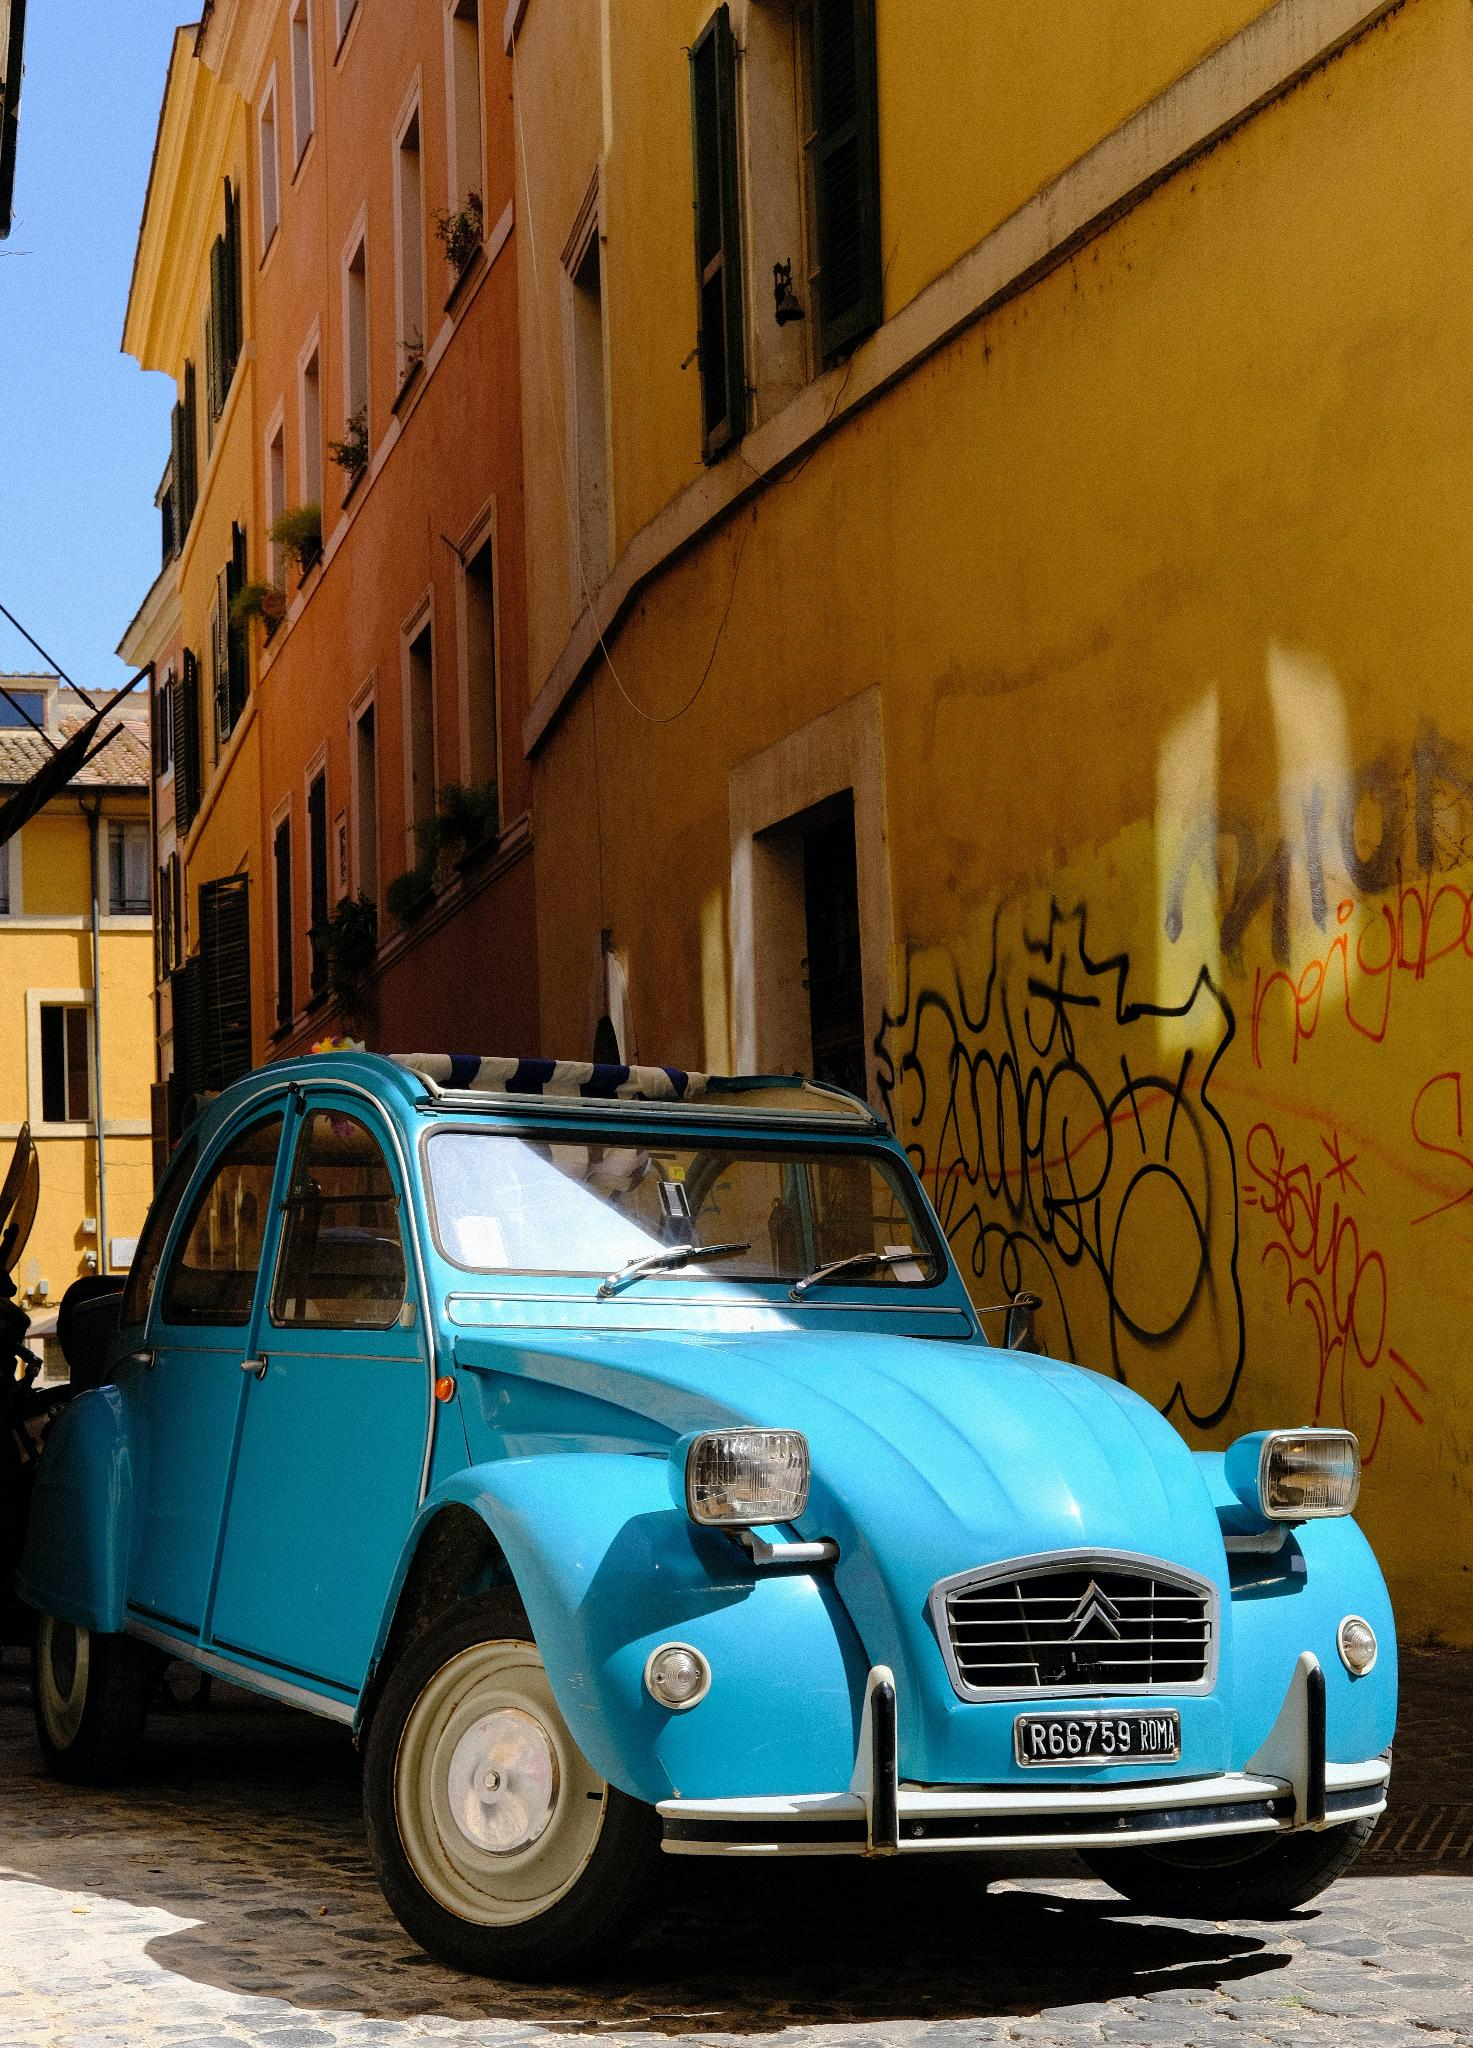Citroen: (1050, 1557, 1136, 1665)
